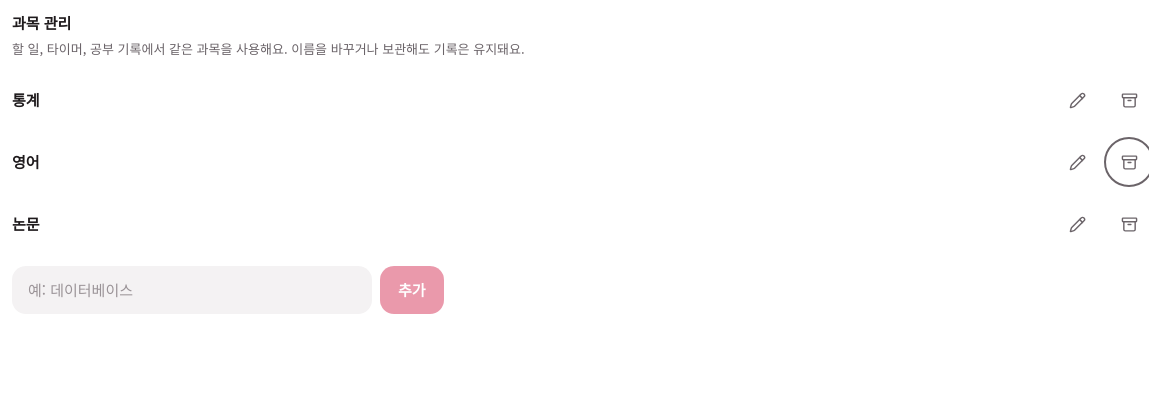
Scenario: SubjectManager 과목 보관 › archives at once without a dialog, moves the row under 보관한 과목 (N) and moves focus to the next row
This screenshot has width=1164, height=395.
Step 1. Click the button named "영어 보관" → (1129, 162), box [1109,142,1149,182]
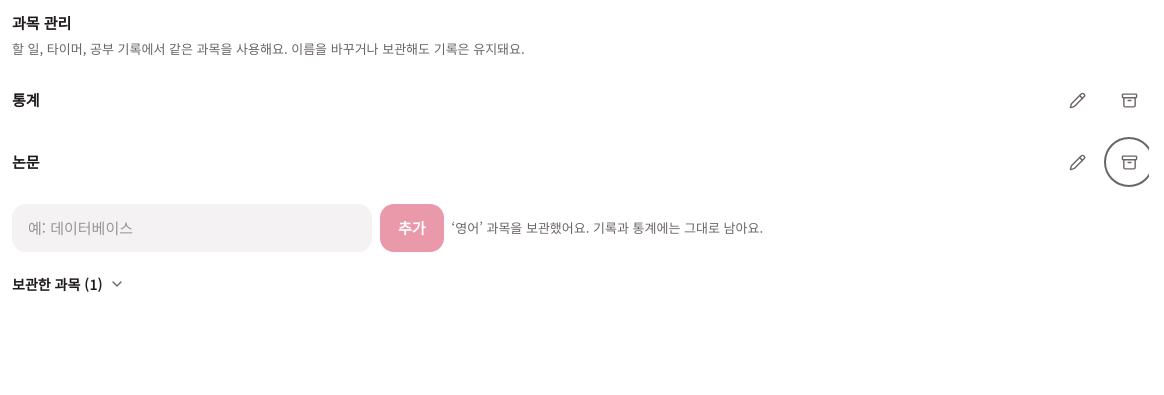
expect the heading "보관한 과목 (1)" is shown: met
Step 2. Click the heading "보관한 과목 (1)" → (68, 284), box [12,274,125,294]
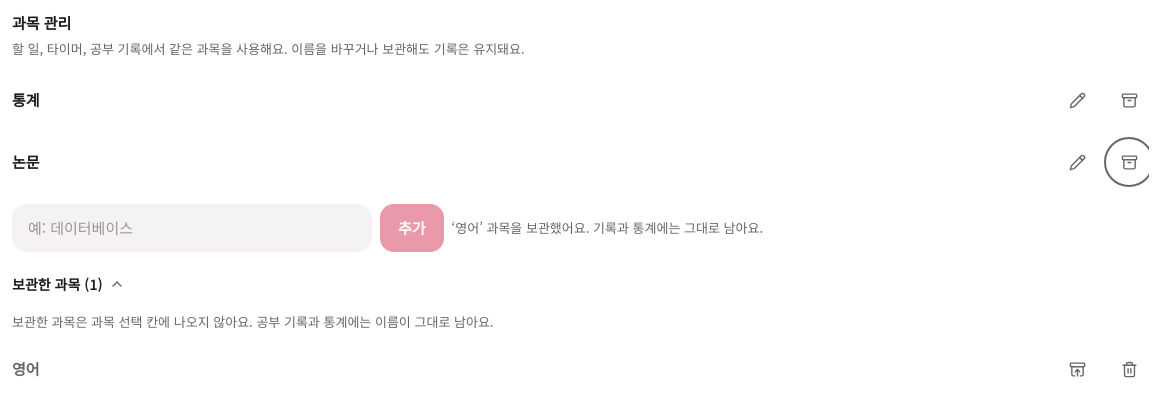
expect the text "보관한 과목은 과목 선택 칸에 나오지 않아요. 공부 기록과 통계에는 이름이 그대로 남아요." is shown: met, box [12,312,494,331]
